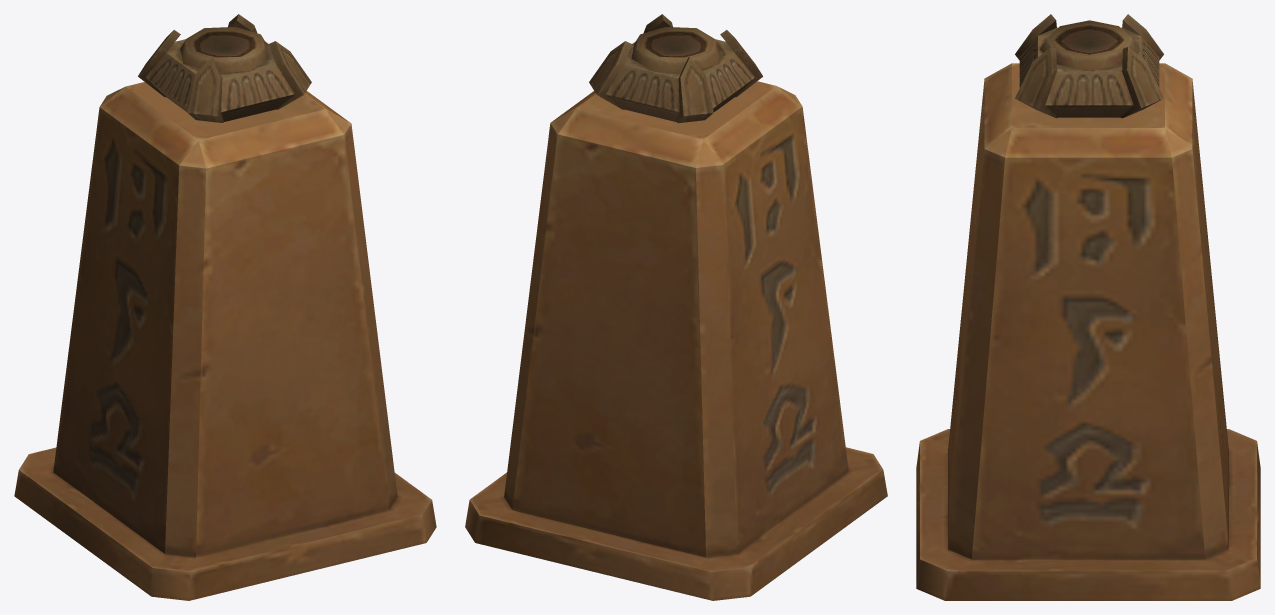
File: shakian_cliff_convex2_wallcorner02_02.FBX
3 views of the same model, side by side, from view 1: azimuth 30°, elevation 25°; view 2: azimuth 150°, elevation 25°; view 3: azimuth 270°, elevation 25° (orthographic). The views are drawn at different scales.
Parts seen in each view (by area): view 1: shakian_cliff_convex2_wallcorner02_01; view 2: shakian_cliff_convex2_wallcorner02_01; view 3: shakian_cliff_convex2_wallcorner02_01.
Part boxes in pixels (box(x1,y1,x2,y2)): shakian_cliff_convex2_wallcorner02_01: box(14, 14, 436, 600); shakian_cliff_convex2_wallcorner02_01: box(465, 14, 887, 600); shakian_cliff_convex2_wallcorner02_01: box(916, 14, 1260, 600).
Bounding box in the file's own units: 2.16 × 3.45 × 2.16.
